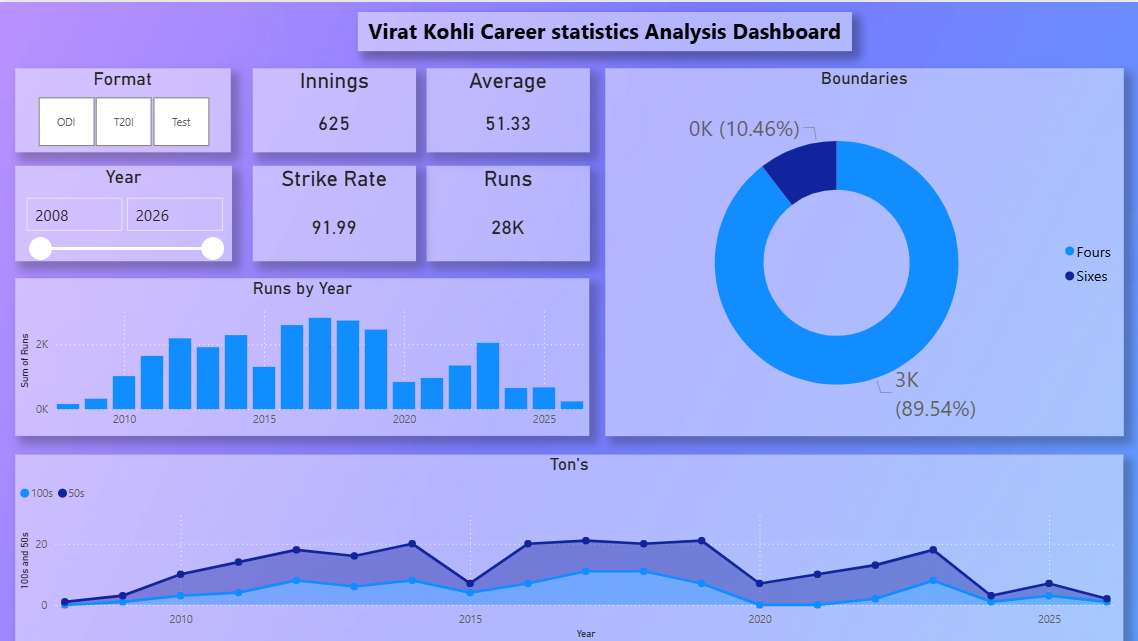

What the dashboard file says about the page in this screenshot:
{"tool":"powerbi","page":{"name":"Page 1","canvas":[1280,720],"ordinal":0},"visuals":[{"type":"textbox","box":[402.9,11.4,554.3,44.3],"z":0},{"type":"card","title":"Innings","fields":{"Values":["Sum(Overall.Innings)"]},"box":[284.3,74.7,182.9,94.3],"z":1000},{"type":"card","title":"Runs","fields":{"Values":["Sum(Overall.Runs)"]},"box":[480,183.2,182.9,107.1],"z":2000},{"type":"card","title":"Average","fields":{"Values":["Avg(Overall.Avg)"]},"box":[480,74.7,182.9,94.3],"z":3000},{"type":"card","title":"Strike Rate","fields":{"Values":["Avg(Overall.SR)"]},"box":[284.3,183.2,182.9,107.1],"z":4000},{"type":"slicer","title":"Format","fields":{"Values":["Overall.Format"]},"box":[18.6,74.7,241.4,94.3],"z":5000},{"type":"slicer","title":"Year","fields":{"Values":["Overall.Year"]},"box":[18.6,183.2,242.9,107.1],"z":6000},{"type":"clusteredColumnChart","title":"Runs by Year","fields":{"Y":["Sum(Overall.Runs)"],"Category":["Overall.Year"]},"box":[18.6,310,644.3,177.1],"z":7000},{"type":"donutChart","title":"Boundaries","fields":{"Y":["Sum(Overall.4s)","Sum(Overall.6s)"]},"box":[680,74.3,581.4,412.9],"z":8000},{"type":"stackedAreaChart","title":"Ton''s","fields":{"Y":["Sum(Overall.100)","Sum(Overall.50)"],"Category":["Overall.Year"]},"box":[18.6,507.1,1242.9,212.9],"z":9000}]}

Visuals, with their boxes in screenshot pixels (x1, y1, x2, y2), scaled from the page's 1280x720 canvas onto the 1138x641 screenshot:
textbox: {"x1": 358, "y1": 10, "x2": 851, "y2": 50}
"Innings" card: {"x1": 253, "y1": 67, "x2": 415, "y2": 150}
"Runs" card: {"x1": 427, "y1": 163, "x2": 589, "y2": 258}
"Average" card: {"x1": 427, "y1": 67, "x2": 589, "y2": 150}
"Strike Rate" card: {"x1": 253, "y1": 163, "x2": 415, "y2": 258}
"Format" slicer: {"x1": 17, "y1": 67, "x2": 231, "y2": 150}
"Year" slicer: {"x1": 17, "y1": 163, "x2": 232, "y2": 258}
"Runs by Year" clusteredColumnChart: {"x1": 17, "y1": 276, "x2": 589, "y2": 434}
"Boundaries" donutChart: {"x1": 605, "y1": 66, "x2": 1121, "y2": 434}
"Ton''s" stackedAreaChart: {"x1": 17, "y1": 451, "x2": 1122, "y2": 640}
